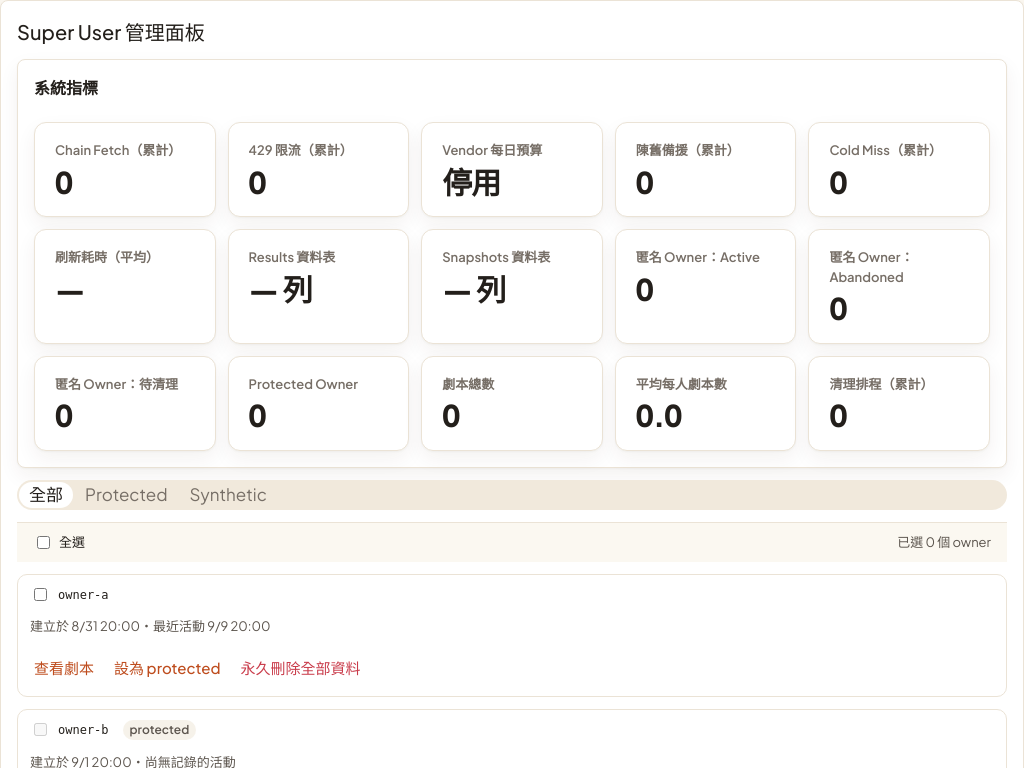
Test: SuperUserAdmin › CLAUDE-BETA-LAUNCH-FINAL-001：全選／清除選取 › 全選只選畫面上所有非 protected owner；再按一次全部取消
The image size is (1024, 768).
Check: the text "owner-a" is shown, box [58, 586, 109, 604]
What coordinates should you click on to do the following:
click the checkbox labelled "全選"
I would click on:
 (44, 542)
Its box is [37, 536, 50, 549].
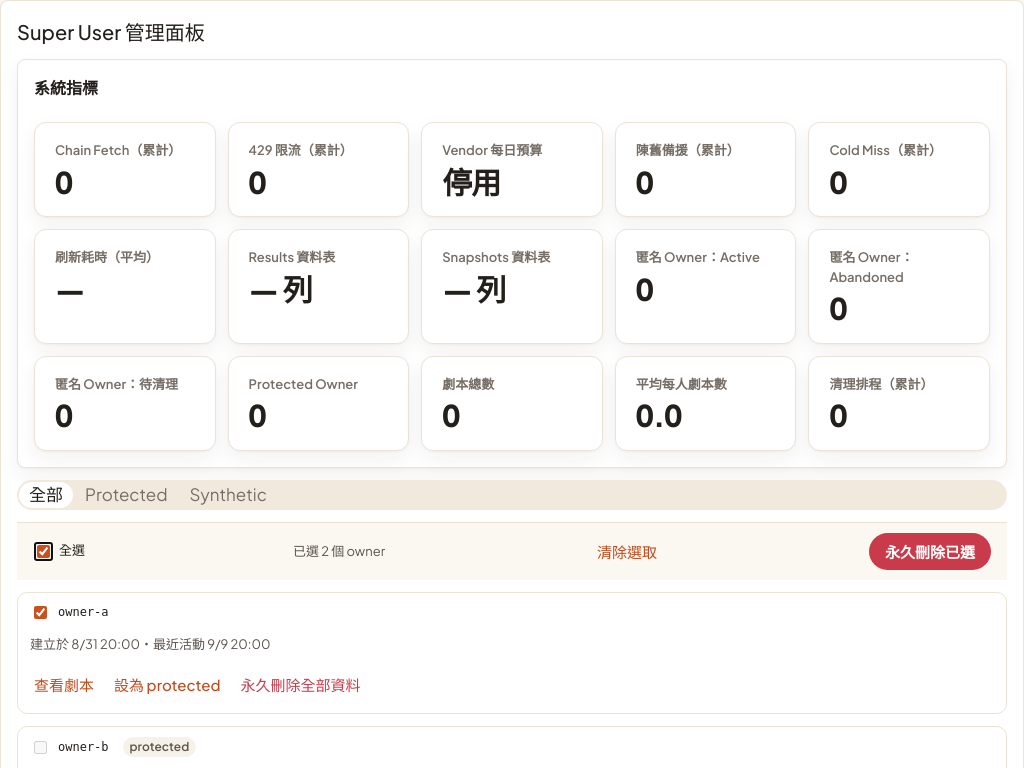
Check: the checkbox labelled "全選" is checked
Check: the text "已選 2 個 owner" is shown, box [293, 542, 385, 560]
Check: the checkbox named "選取 owner owner-a" is checked, box [34, 606, 47, 618]
What coordinates should you click on to do the following:
click the checkbox labelled "全選"
I would click on:
 (44, 551)
Its box is [37, 544, 50, 558].
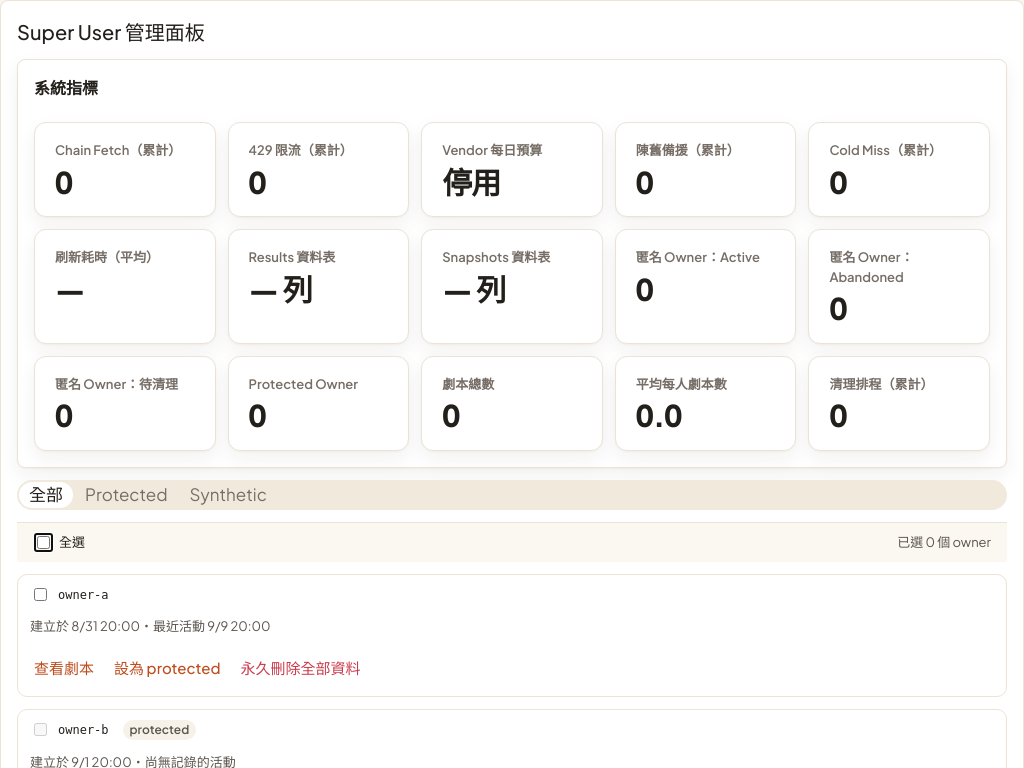
Check: the checkbox labelled "全選" is not checked, box [37, 536, 50, 549]
Check: the text "已選 0 個 owner" is shown, box [897, 533, 991, 552]
